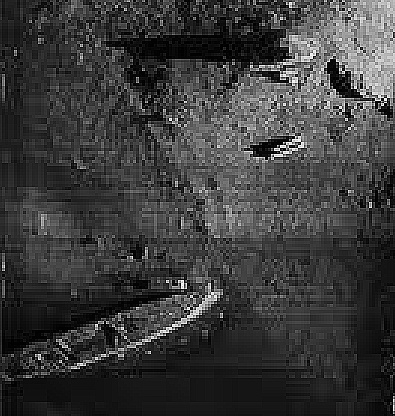ship: (4, 284, 223, 382)
